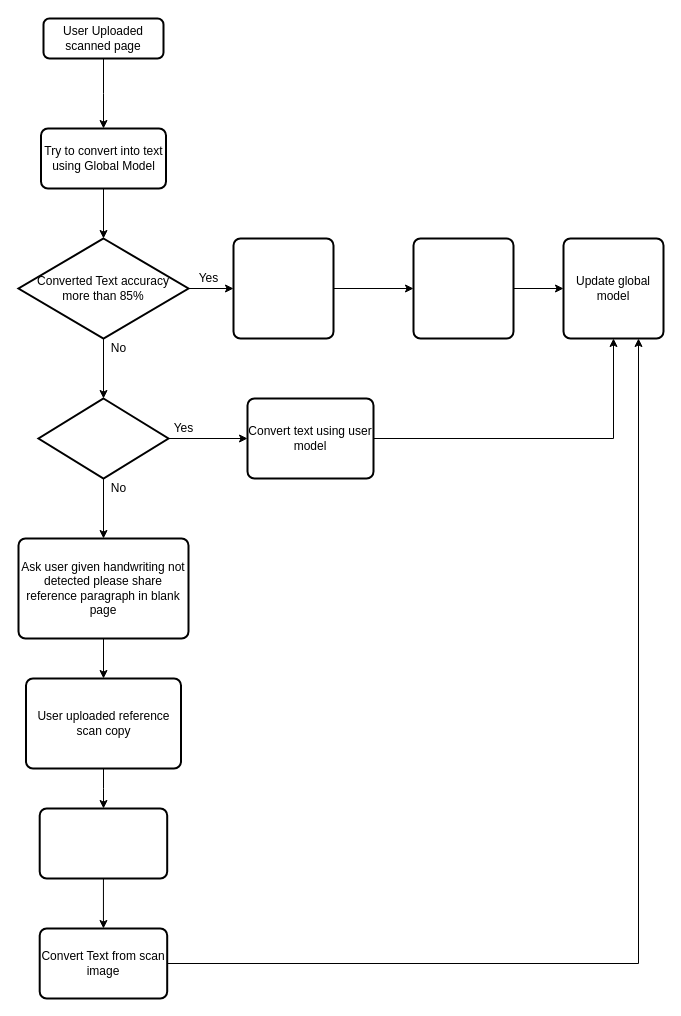
Image size: 681x1016. Some labels were removed from this diagram. The box of each missing label's shape, as (x1, y1, x2, y2) in pixels:
Ask user to update wrong character: (412, 237, 514, 339)
Create User Model: (38, 807, 168, 879)
Does User Model available: (37, 397, 169, 479)
Show converted text with spelling mistake and red underline.: (232, 237, 334, 339)
